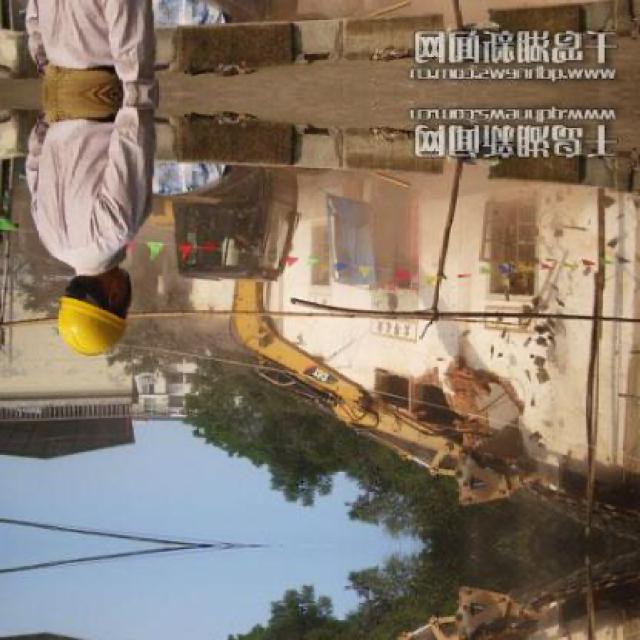con casco: (39, 276, 151, 364)
